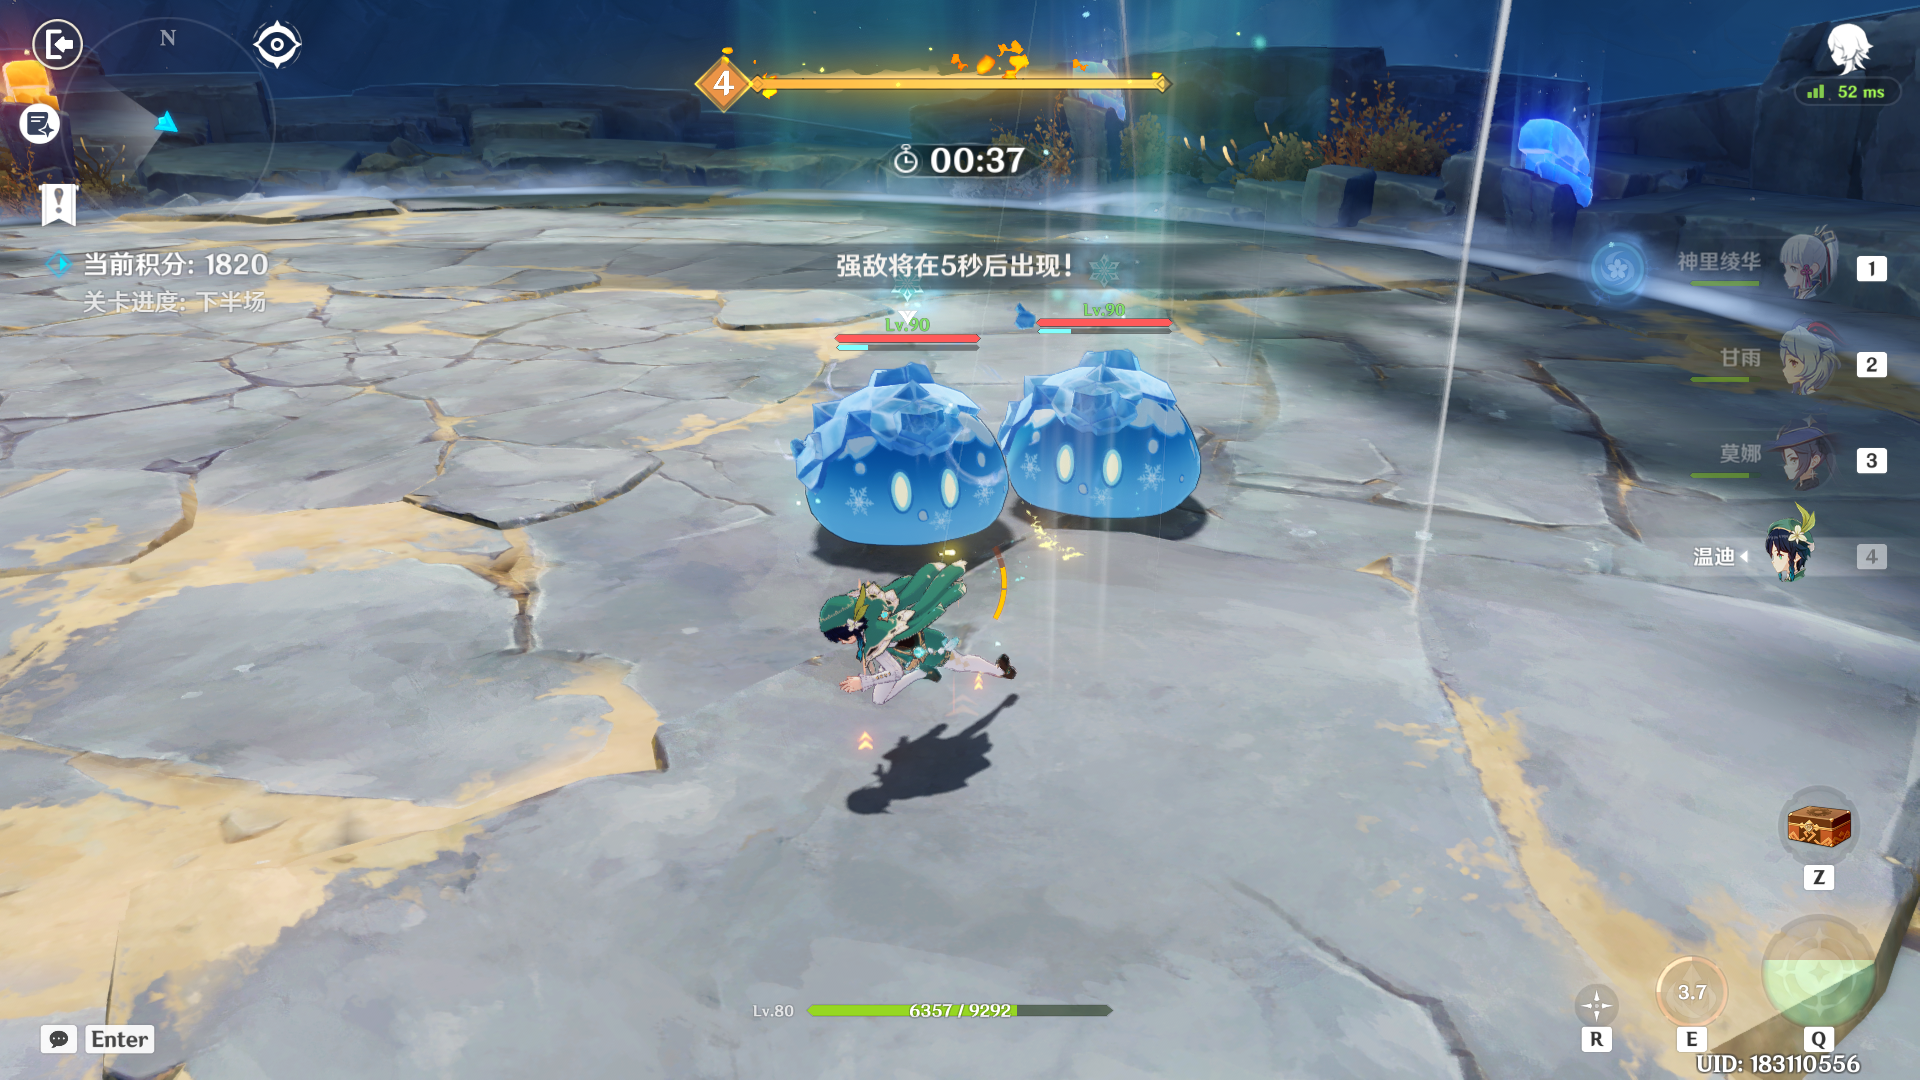character: (779, 531, 1055, 760)
slime: (775, 352, 1021, 555), (982, 338, 1212, 531)
